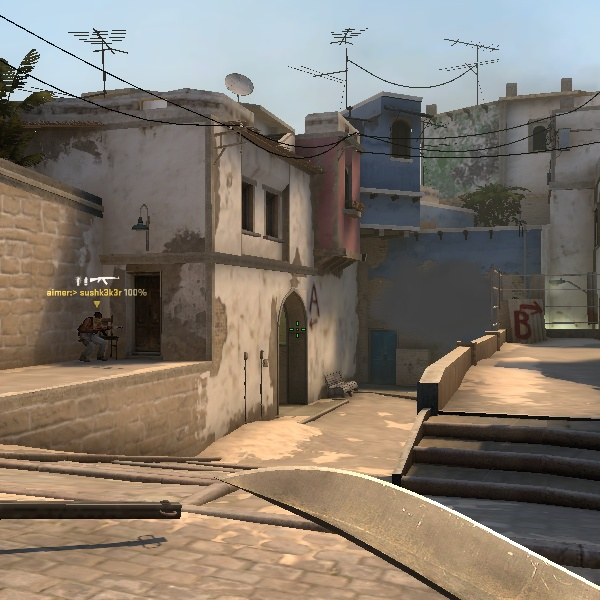t_body: (76, 306, 115, 359)
